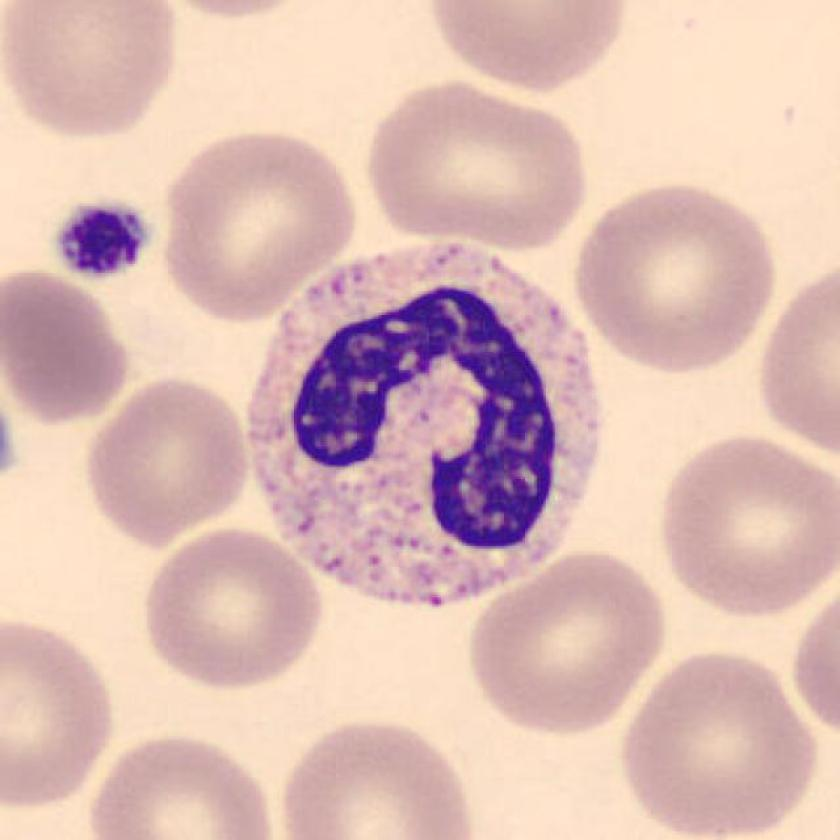neutrophil: (247, 243, 602, 596)
